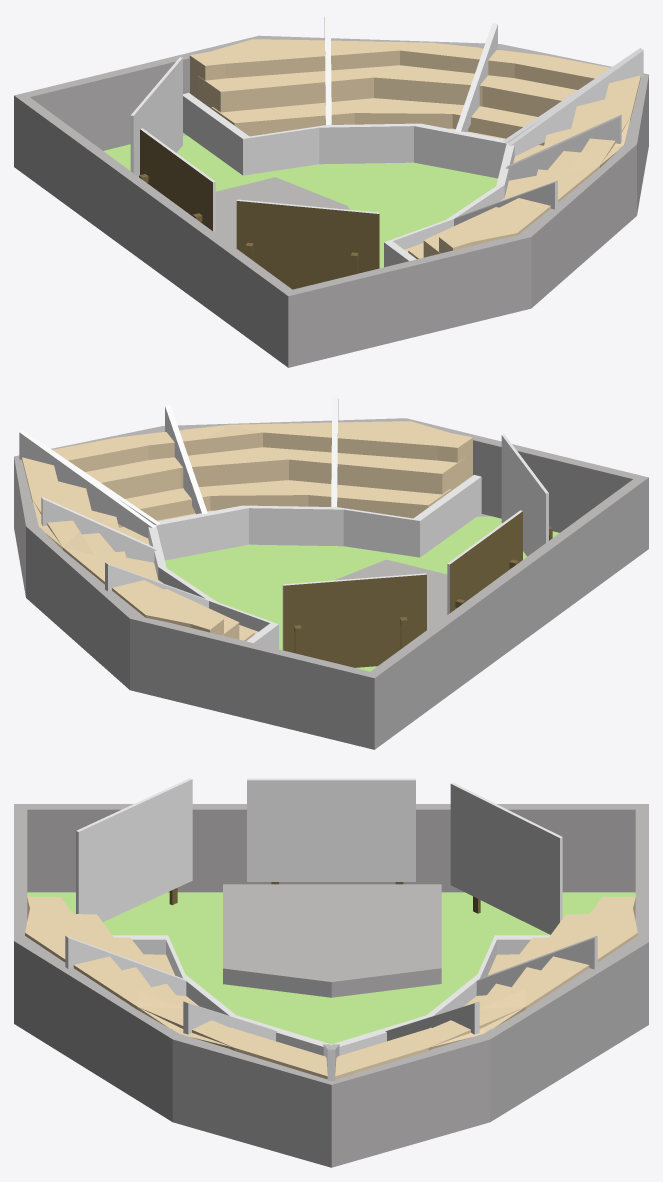
The model's file is AMPHITHEATER.glb.
3 renders of one model, top to bottom at view 1: azimuth 30°, elevation 25°; view 2: azimuth 150°, elevation 25°; view 3: azimuth 270°, elevation 25°, orthographic. The views are drawn at different scales.
Parts seen in each view (by area): view 1: Cube; view 2: Cube; view 3: Cube.
Boxes of the visible parts, x1=… form: Cube: x1=14, y1=14, x2=648, y2=367; Cube: x1=14, y1=396, x2=648, y2=749; Cube: x1=14, y1=778, x2=648, y2=1167.
Bounding box in the file's own units: 138 × 28.26 × 132.
